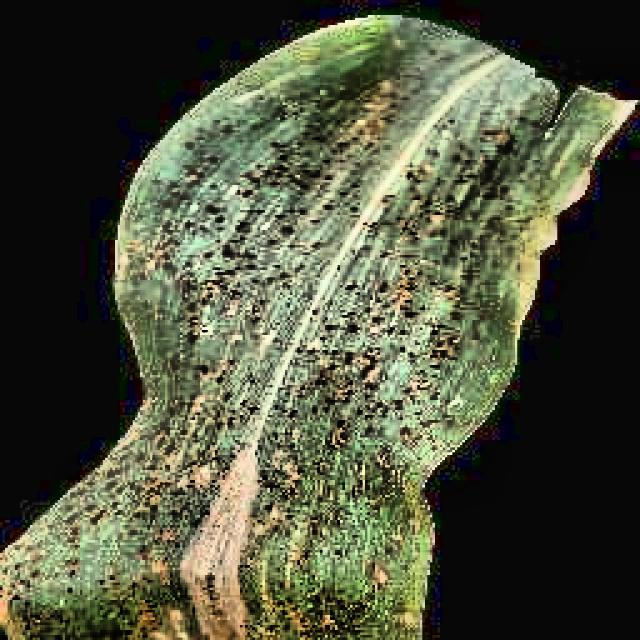common_rust: (105, 10, 535, 449)
